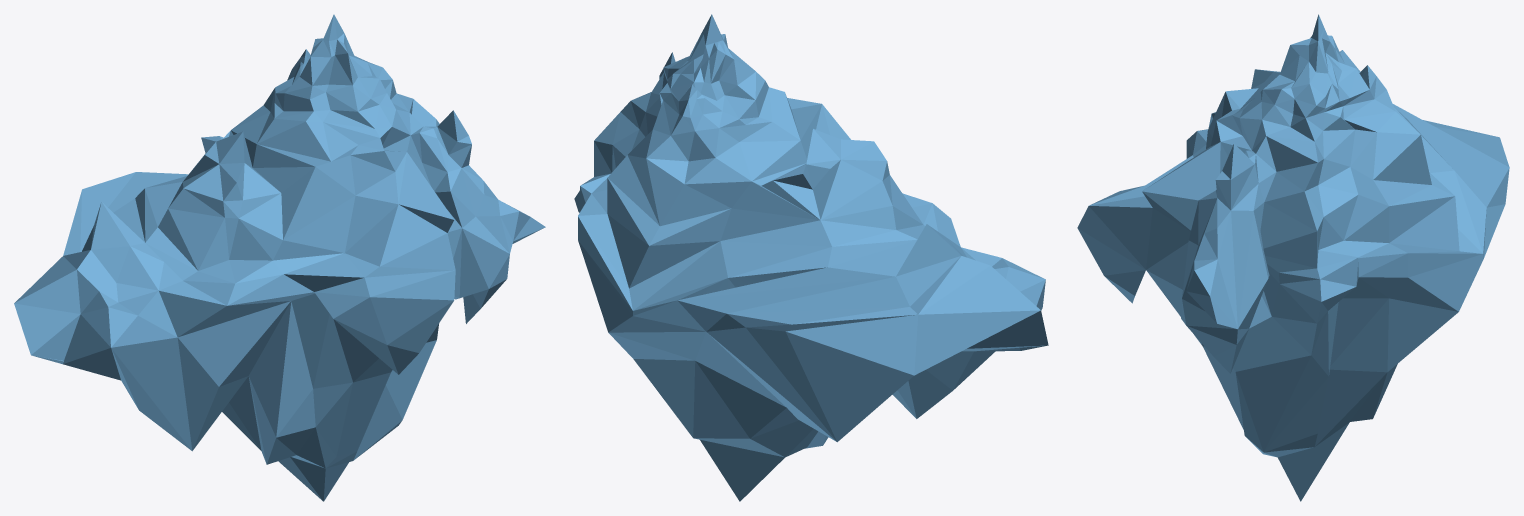
Rendered from Iceberg.fbx.
3 renders of one model, left to right at view 1: azimuth 30°, elevation 25°; view 2: azimuth 150°, elevation 25°; view 3: azimuth 270°, elevation 25°, orthographic. The views are drawn at different scales.
Parts seen in each view (by area): view 1: ICE1, ICE3, ICE2; view 2: ICE1, ICE3; view 3: ICE1, ICE2, ICE3.
Part boxes in pixels (bbox=[...]): ICE1: bbox=[135, 14, 455, 501]; ICE3: bbox=[14, 172, 290, 451]; ICE2: bbox=[419, 110, 545, 323]; ICE1: bbox=[574, 14, 950, 501]; ICE3: bbox=[677, 219, 1048, 442]; ICE1: bbox=[1077, 14, 1505, 501]; ICE2: bbox=[1181, 144, 1276, 373]; ICE3: bbox=[1208, 50, 1509, 207].
Size of the model in its own units: 374 by 353 by 278.
